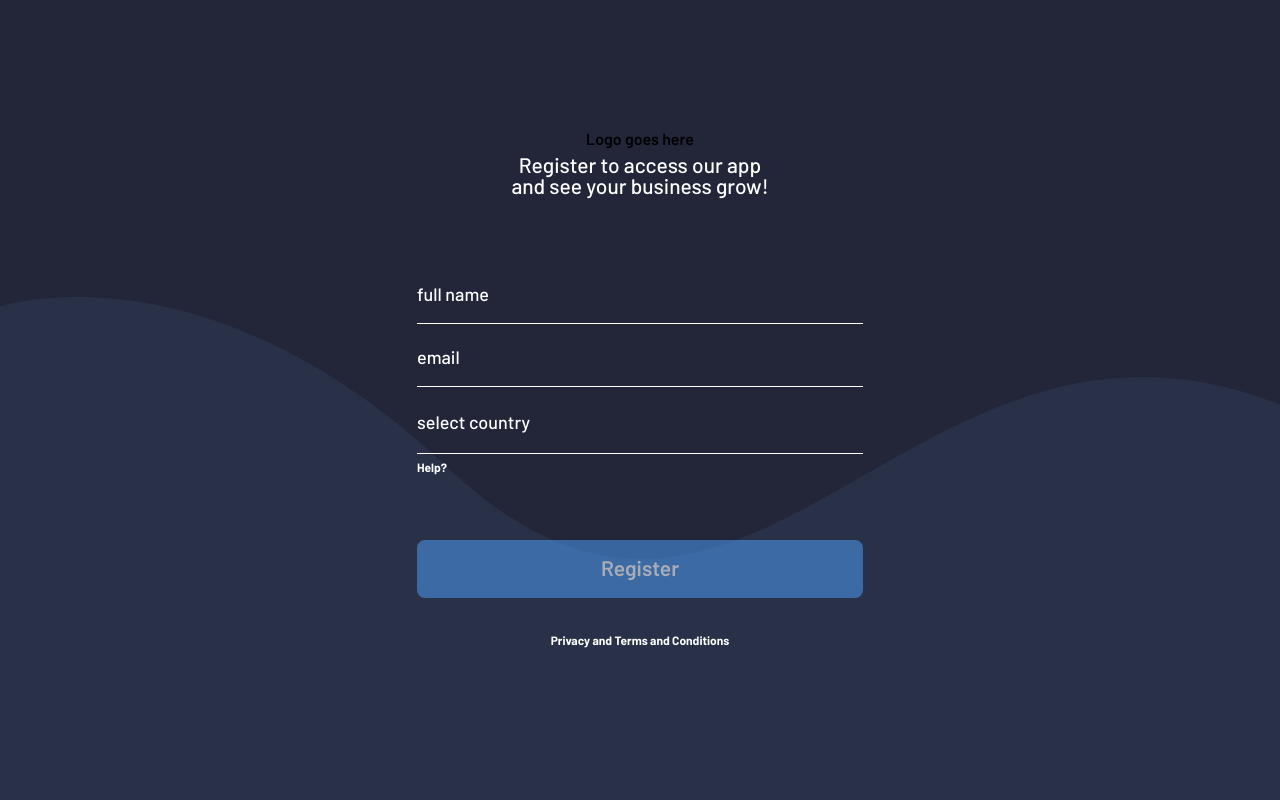
Test: Registration Screen › Register button › should enable when full name, email and country have values
Click the text "select country".
click(474, 424)  # box [417,415,530,433]
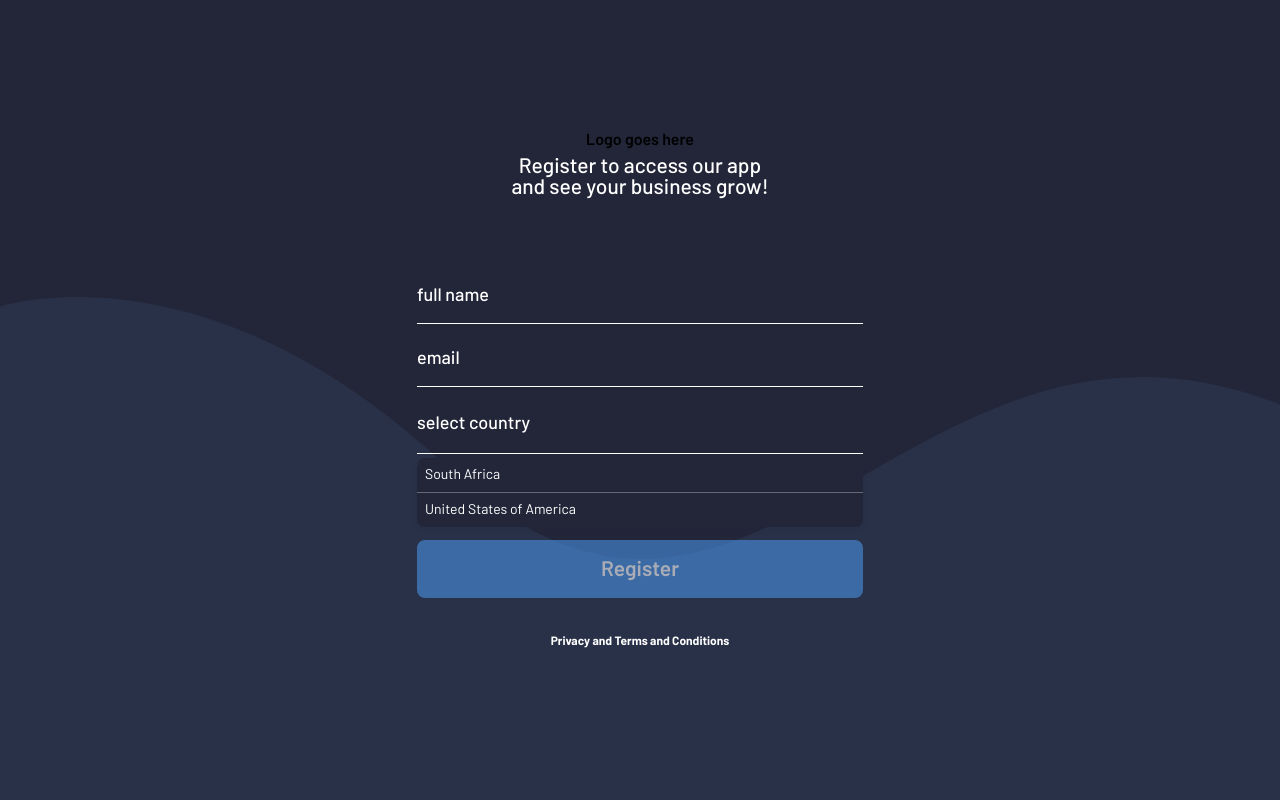
Click the button "South Africa".
click(463, 475)  # box [417,460,863,490]
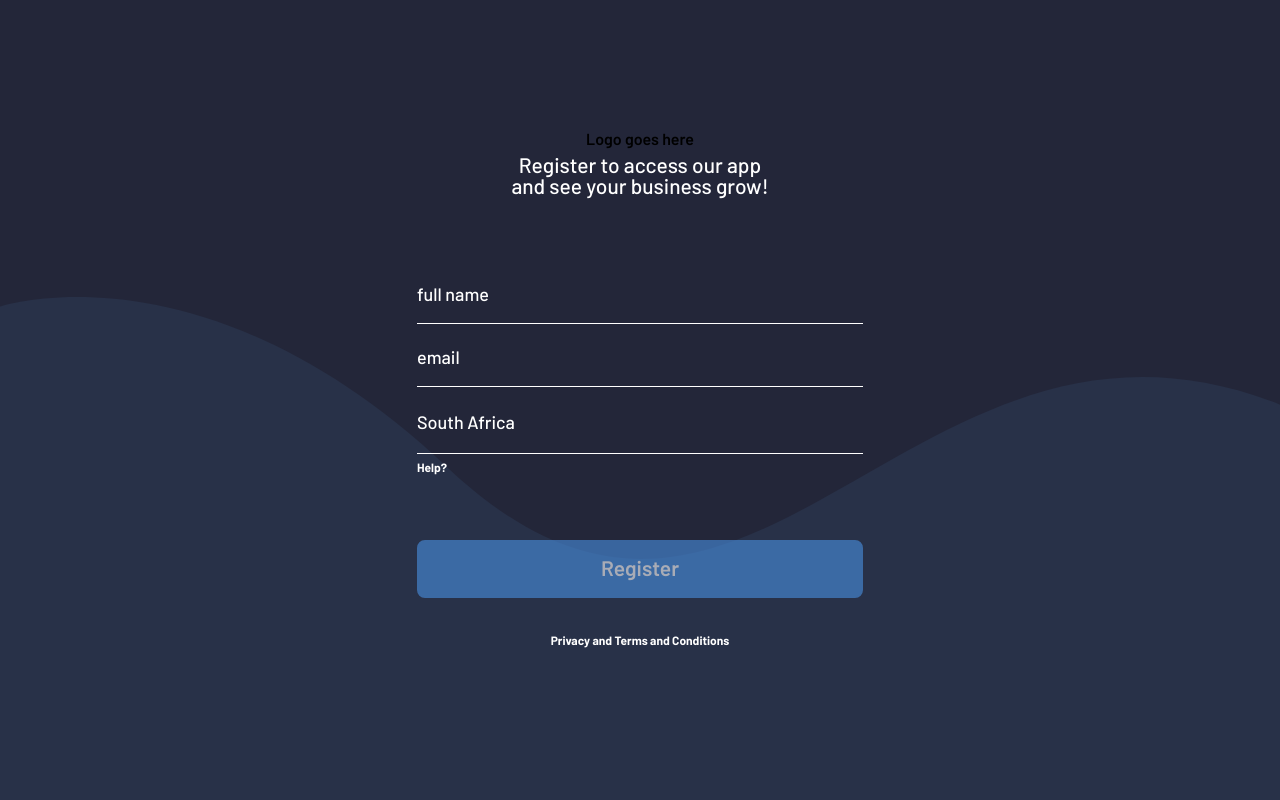
Type "test" into the field with placeholder "full name".
click(640, 296); type("test")  # box [417,269,863,323]
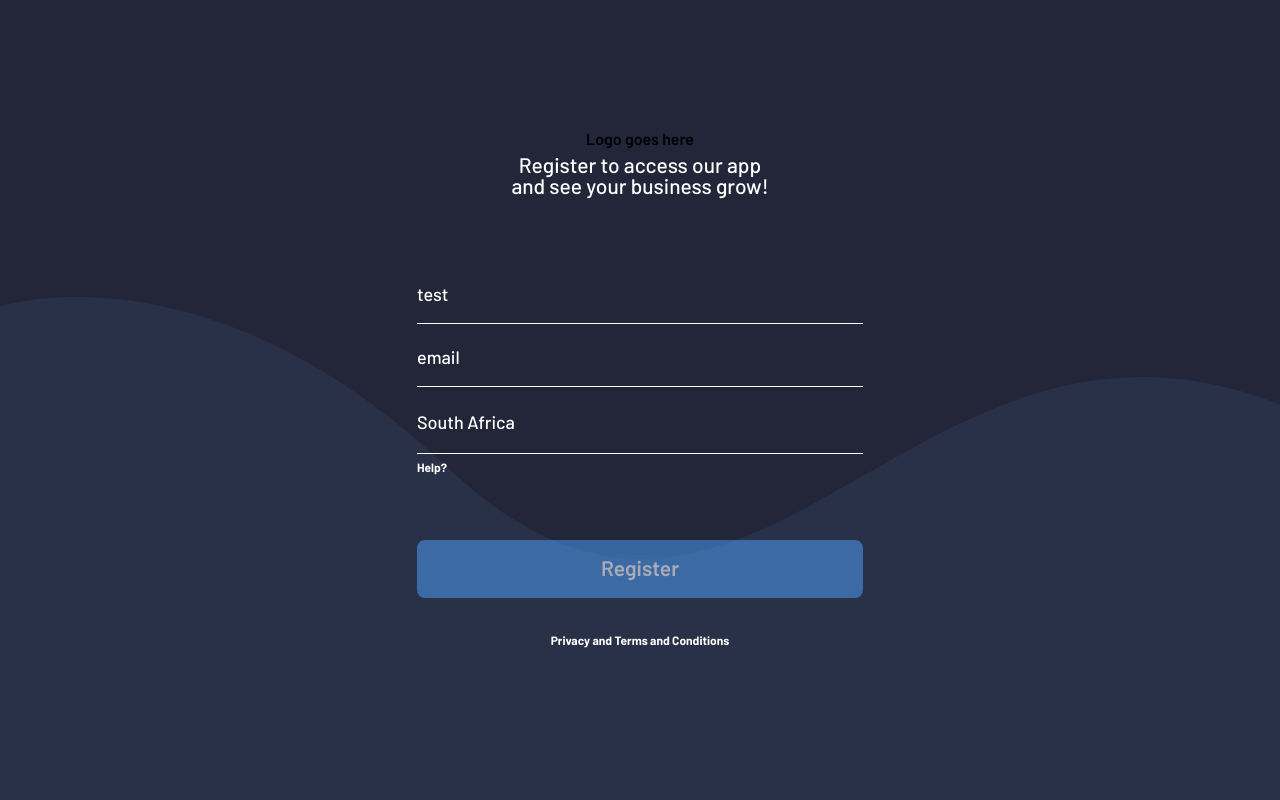
Type "test" into the field with placeholder "email".
click(640, 359); type("test")  # box [417,332,863,386]
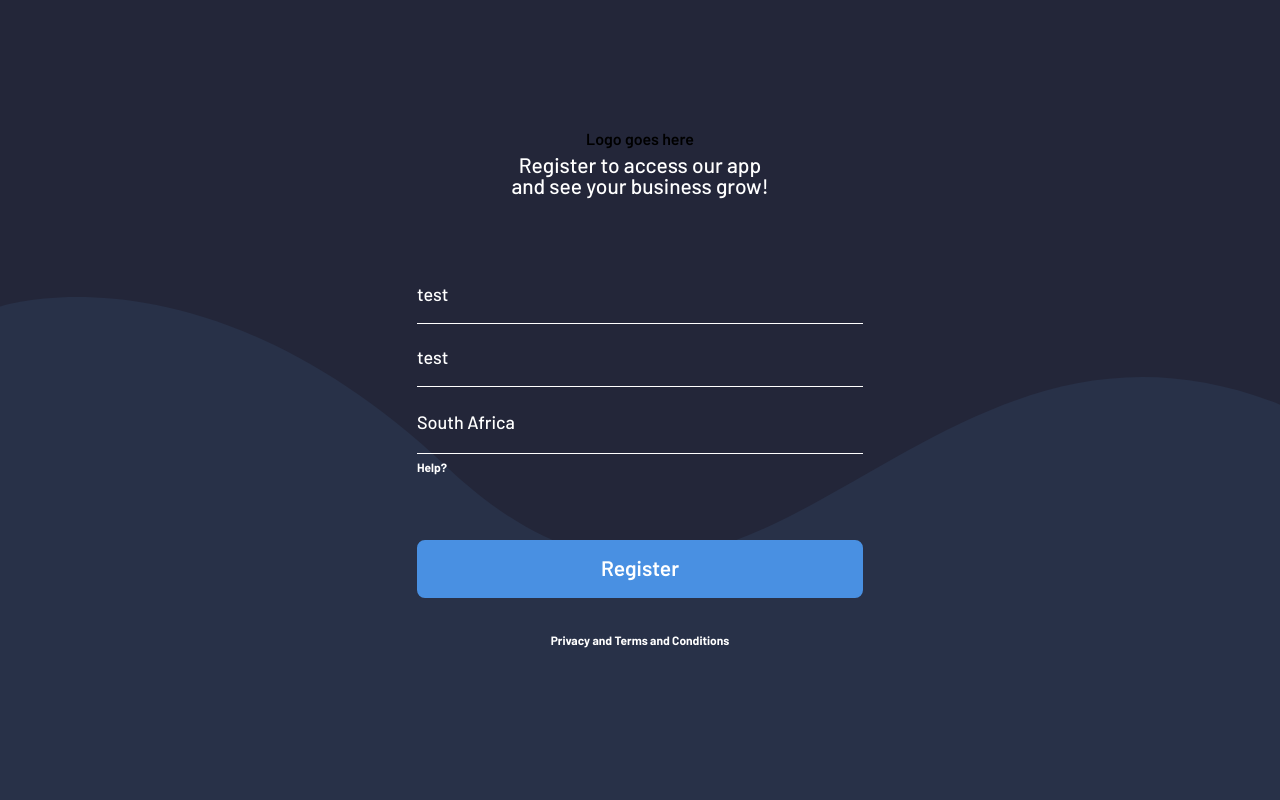
Result: the button "Register" is enabled at [417,540,863,598]
